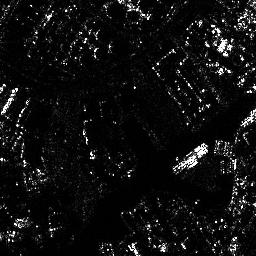ship: (172, 142, 207, 171)
